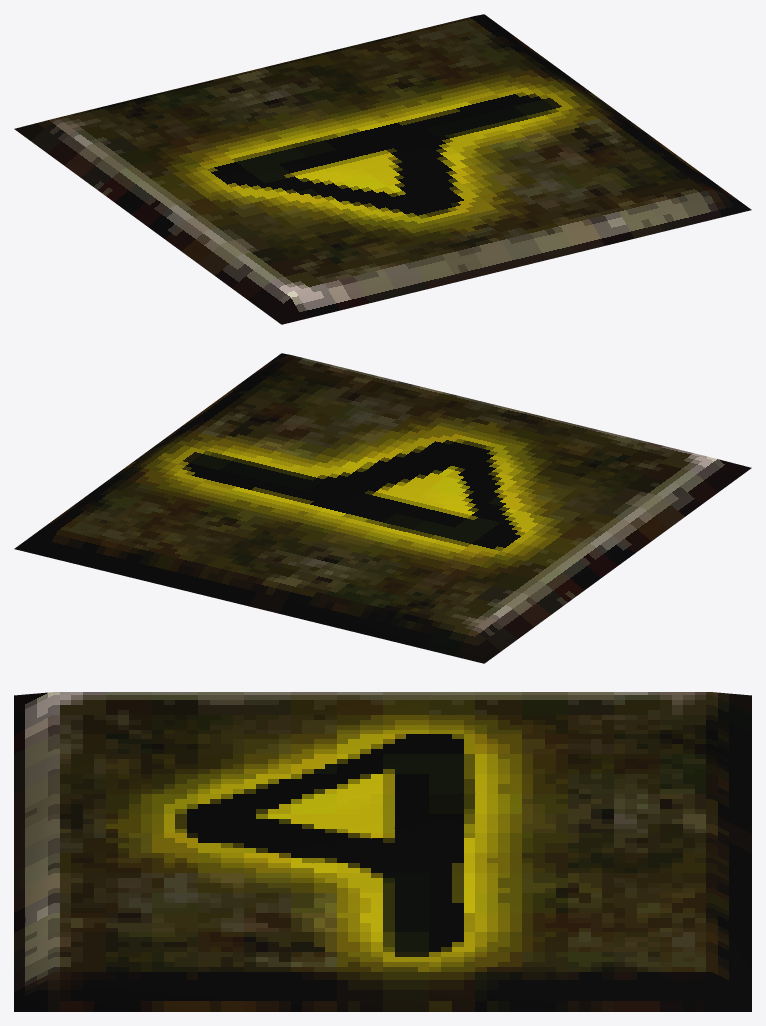
File: EREBOR_RUNE_PZL_EREBOR_PZL_TILE_ACTIVE12.fbx
3 views of the same model, one above another, from view 1: azimuth 30°, elevation 25°; view 2: azimuth 150°, elevation 25°; view 3: azimuth 270°, elevation 25° (orthographic). The views are drawn at different scales.
Parts seen in each view (by area): view 1: EREBOR_RUNE_PZL_EREBOR_PZL_TILE_ACTIVE12; view 2: EREBOR_RUNE_PZL_EREBOR_PZL_TILE_ACTIVE12; view 3: EREBOR_RUNE_PZL_EREBOR_PZL_TILE_ACTIVE12.
Boxes of the visible parts, x1,y1,x2,y2 form: EREBOR_RUNE_PZL_EREBOR_PZL_TILE_ACTIVE12: (14, 14, 751, 324); EREBOR_RUNE_PZL_EREBOR_PZL_TILE_ACTIVE12: (14, 353, 751, 663); EREBOR_RUNE_PZL_EREBOR_PZL_TILE_ACTIVE12: (14, 692, 751, 1011).
Bounding box in the file's own units: 10240 × 305 × 10093.
1 material, 1 textured.
